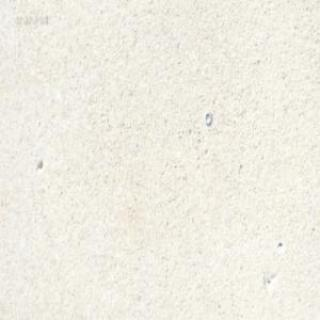Washertrack_idkeyframe: (202, 110, 210, 126)
